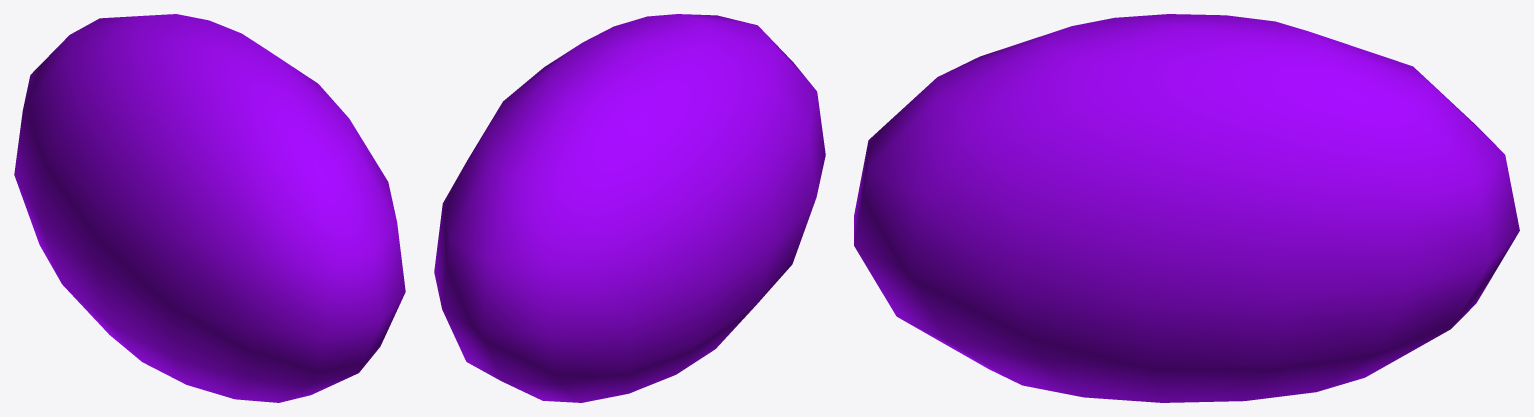
The model's file is eggplant seed.FBX.
3 renders of one model, left to right at view 1: azimuth 30°, elevation 25°; view 2: azimuth 150°, elevation 25°; view 3: azimuth 270°, elevation 25°, orthographic. The views are drawn at different scales.
Parts seen in each view (by area): view 1: Sphere003; view 2: Sphere003; view 3: Sphere003.
Part boxes in pixels (x1,y1,x2,y2): Sphere003: (14,14,405,402); Sphere003: (434,14,825,402); Sphere003: (854,14,1519,402).
Bounding box in the file's own units: 7.13 × 8.44 × 13.86.
